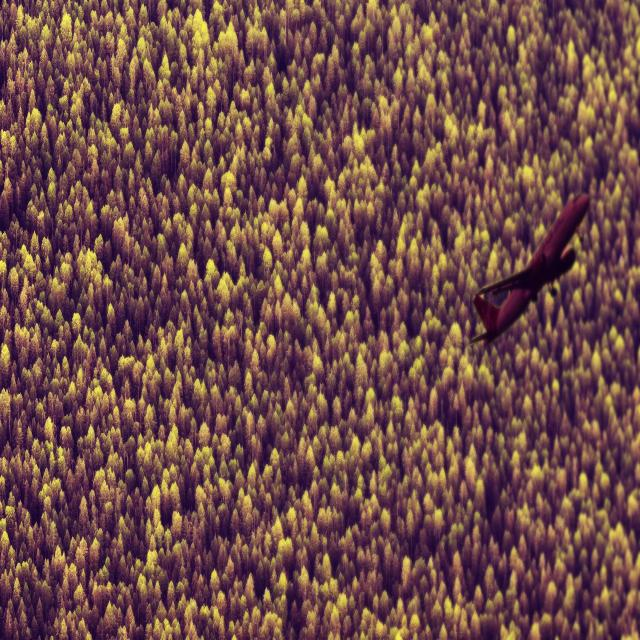airplane: (468, 191, 591, 347)
